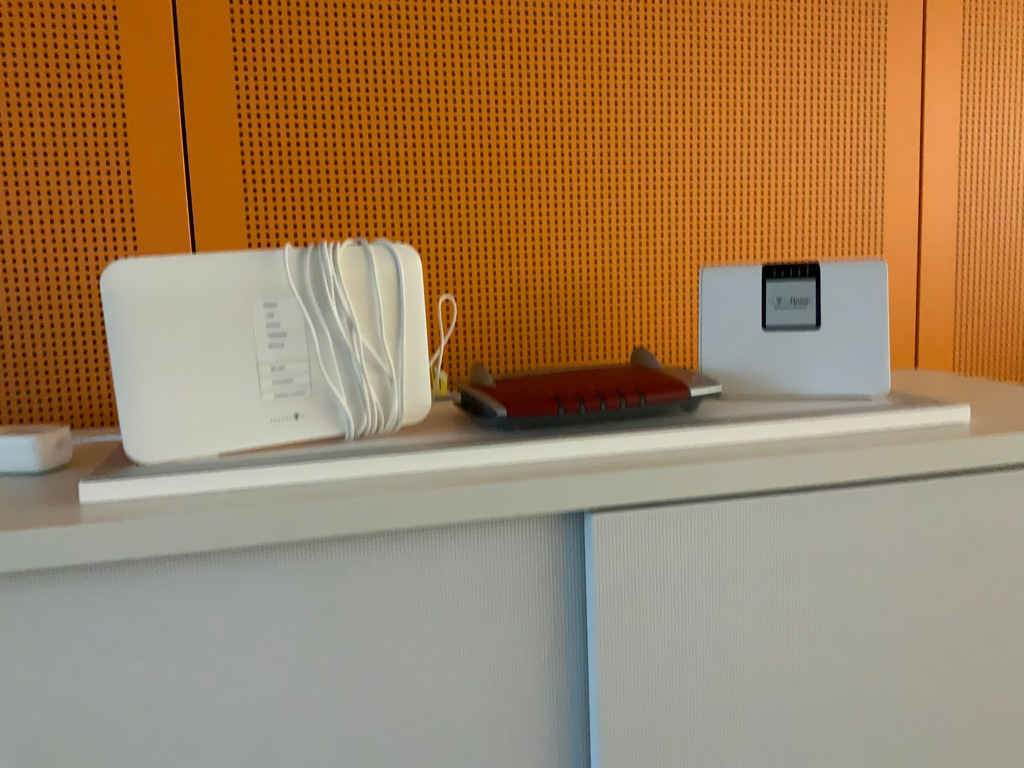Router2: (690, 259, 891, 401)
router: (93, 249, 442, 464)
router3: (457, 354, 725, 422)
